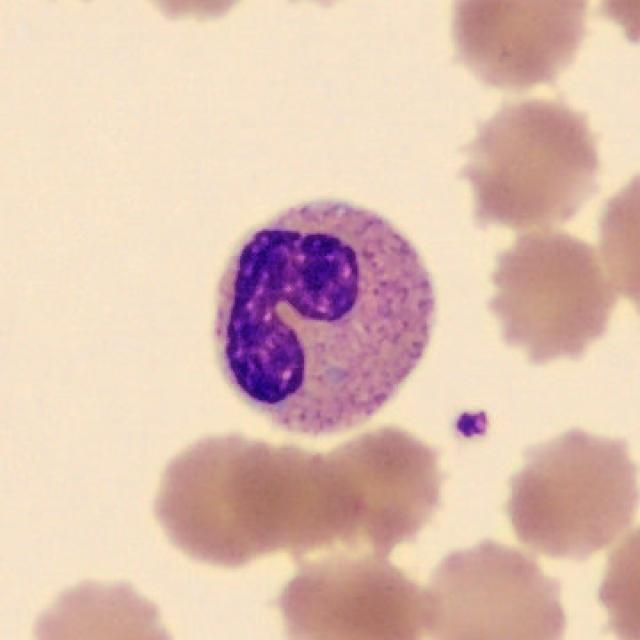Bastonete: (212, 199, 437, 437)
